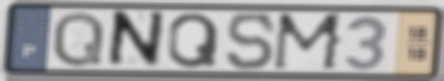3: (342, 13, 390, 73)
M: (269, 11, 347, 73)
N: (103, 9, 168, 71)
Q: (49, 9, 107, 69), (166, 10, 222, 70)
S: (225, 10, 279, 73)
